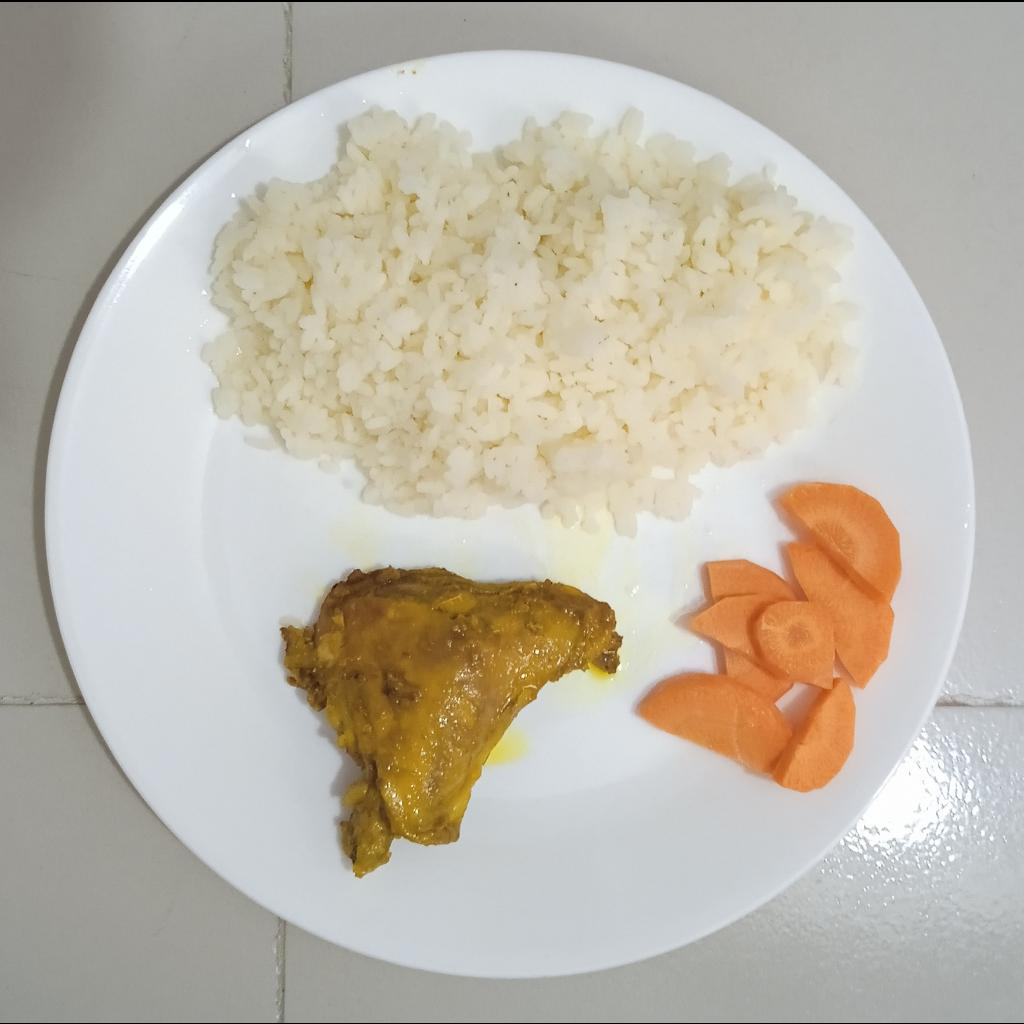carrot: (635, 482, 901, 792)
chicken: (283, 567, 621, 878)
rice: (201, 106, 858, 532)
